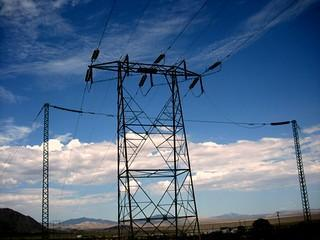power_tower: (84, 53, 220, 235)
